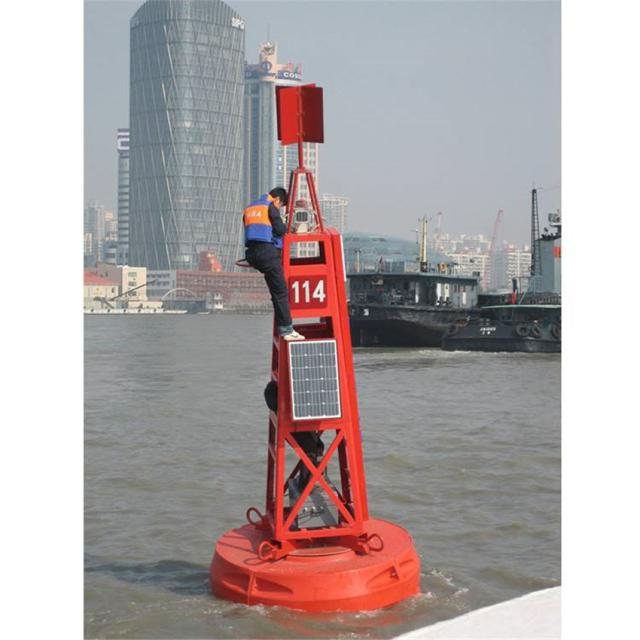buoy: (205, 79, 427, 616)
